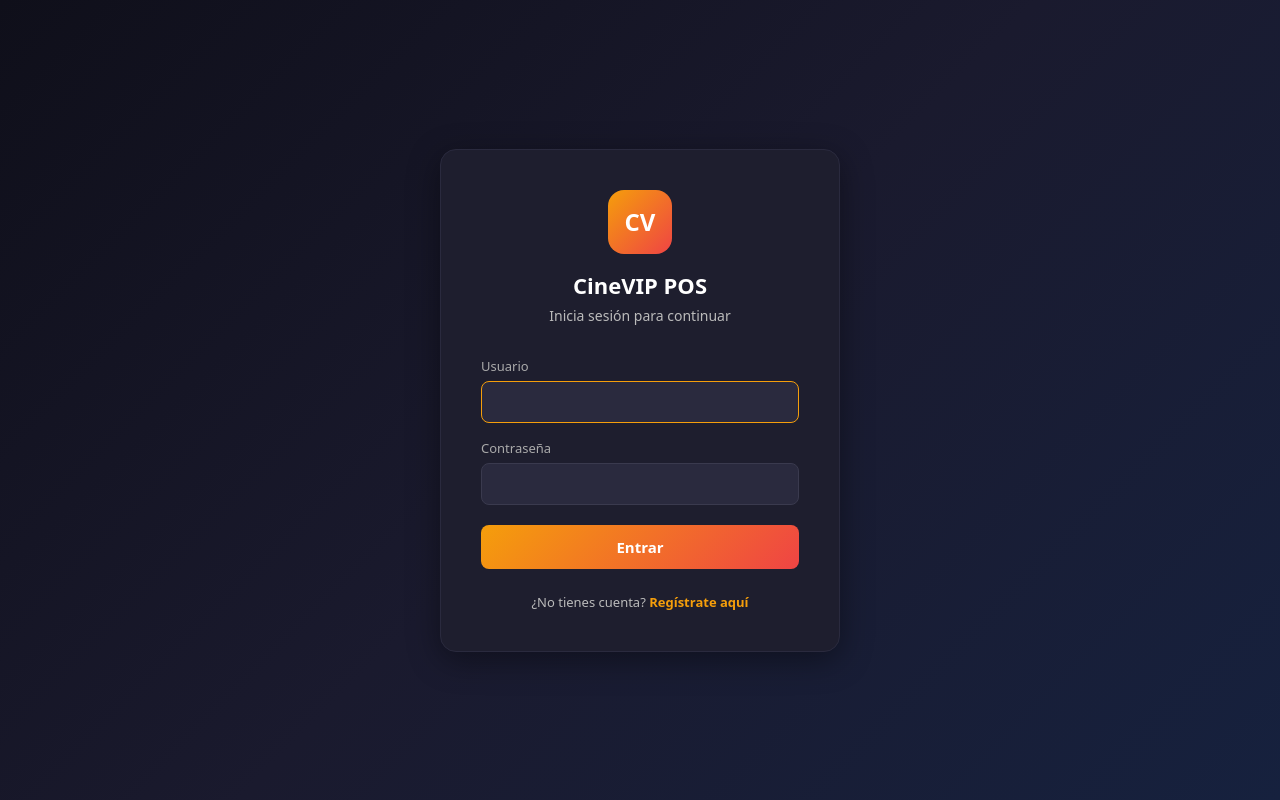
Login › login invalido muestra mensaje de error
Type "invalido" into the field with test id "input-usuario" at coordinates (640, 402), box [481,381,799,423]
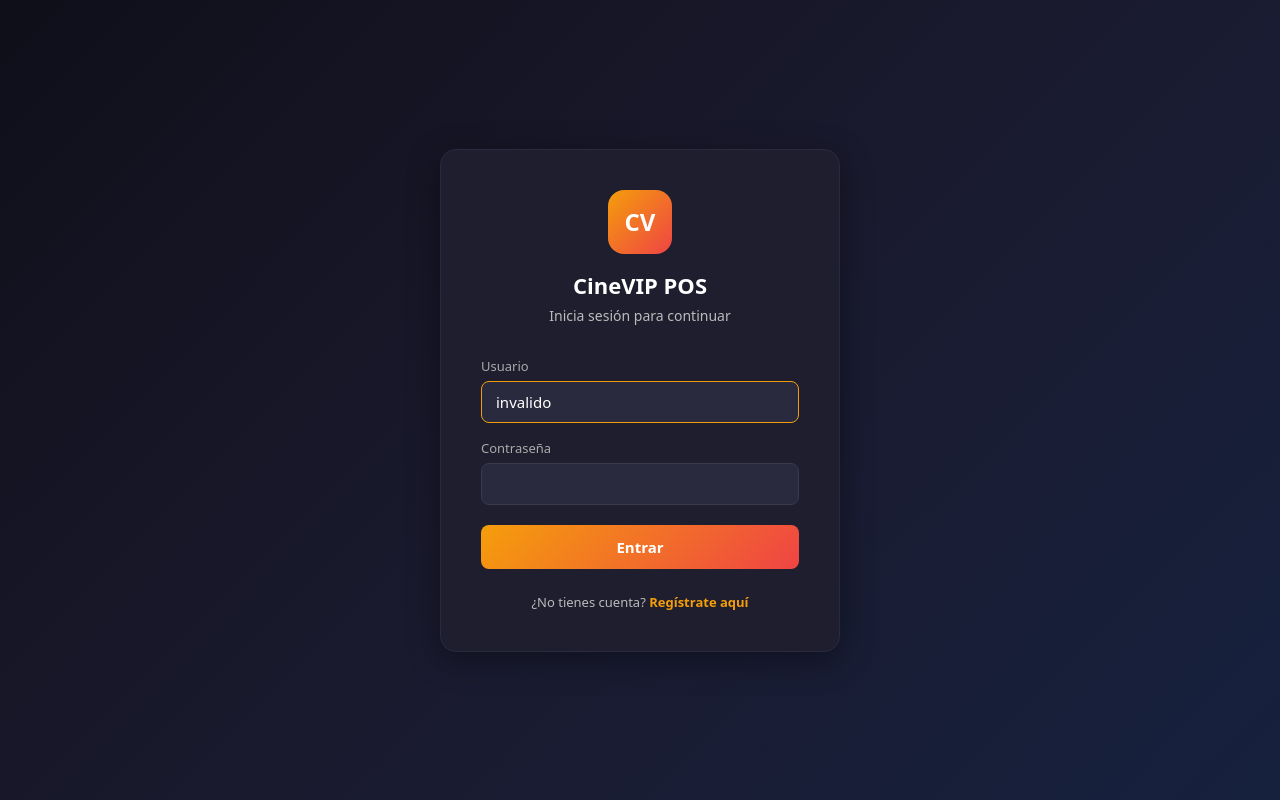
Type "malpassword" into the password field with test id "input-password" at coordinates (640, 484), box [481,463,799,505]
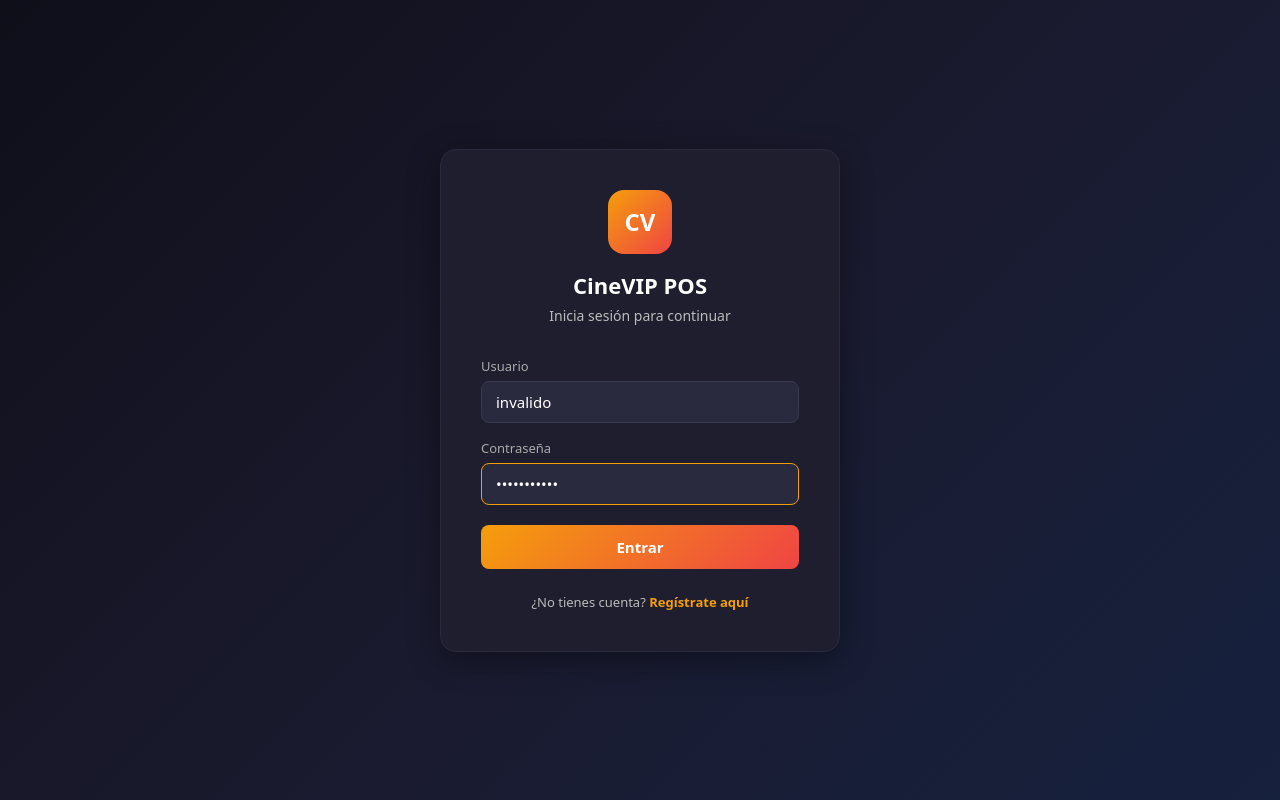
Click the button with test id "btn-entrar" at coordinates (640, 547), box [481,525,799,569]
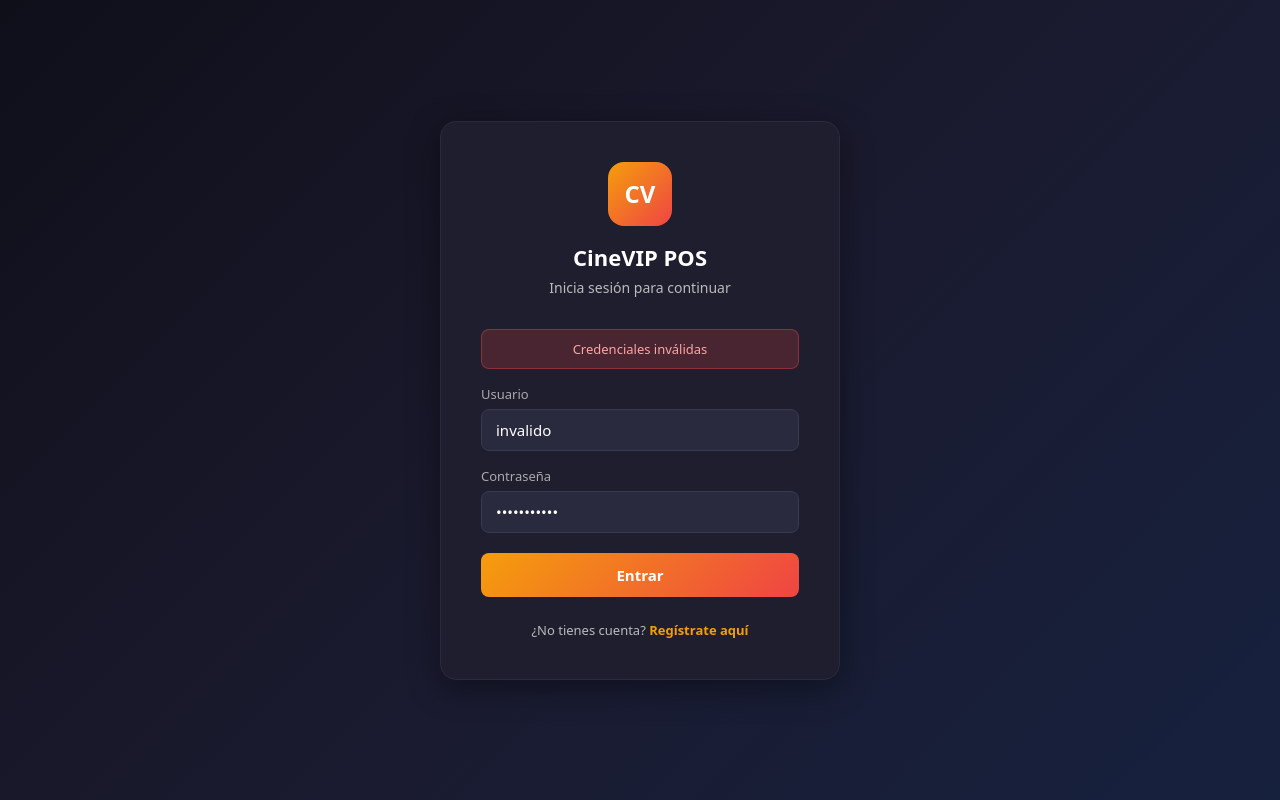
Expected: the text "Credenciales inválidas" is shown, [481,328,799,368]
